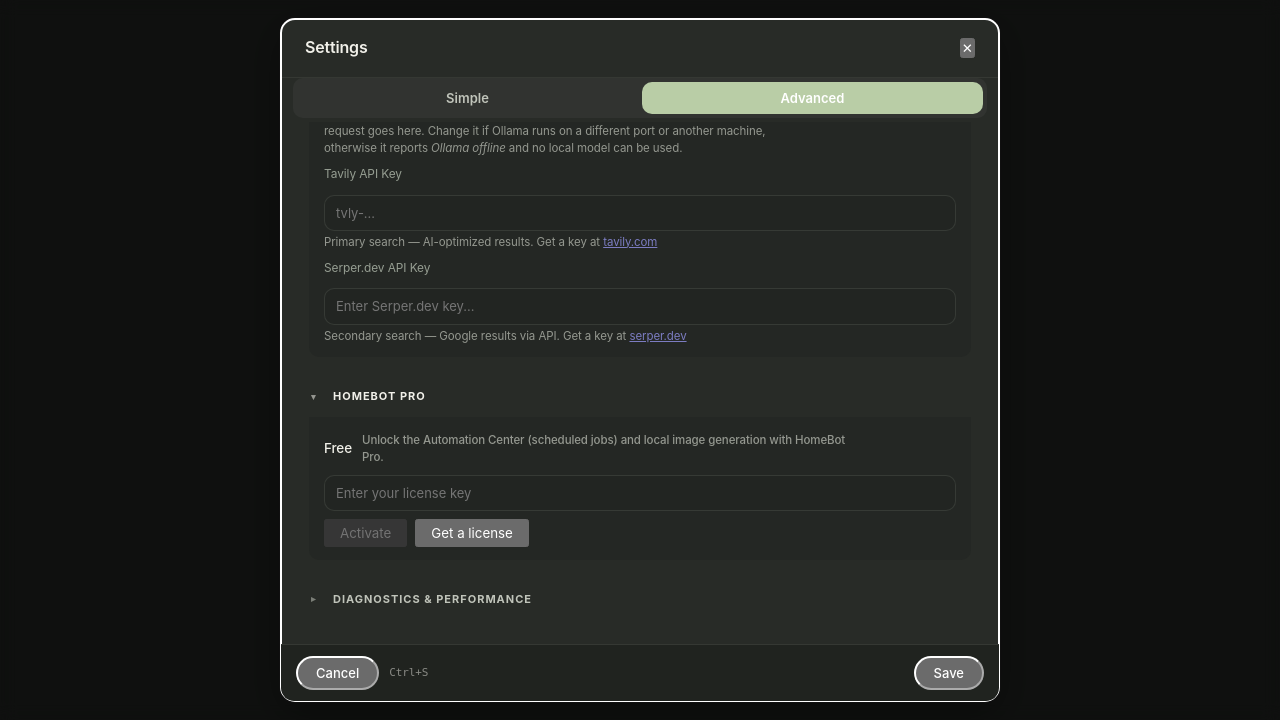
Test: SettingsPanel — System check › runs diagnostics on click and renders each check
The width and height of the screenshot is (1280, 720).
(page scrolled)
Click the button with class "sp-section-toggle" showing "▸ Diagnostics & Performance": (432, 599) [309, 586, 971, 612]
(page scrolled)
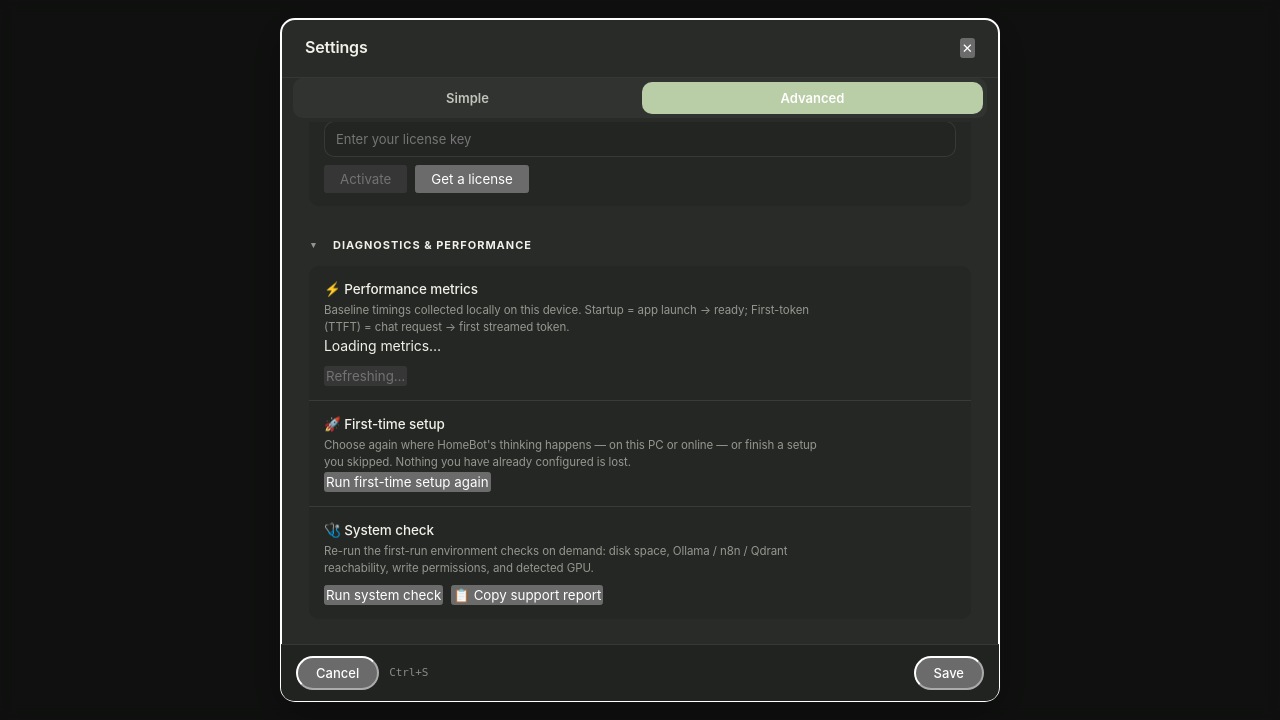
Check: the button "Run system check" is shown
Click the button "Run system check": (384, 595) [324, 585, 443, 605]
(page scrolled)
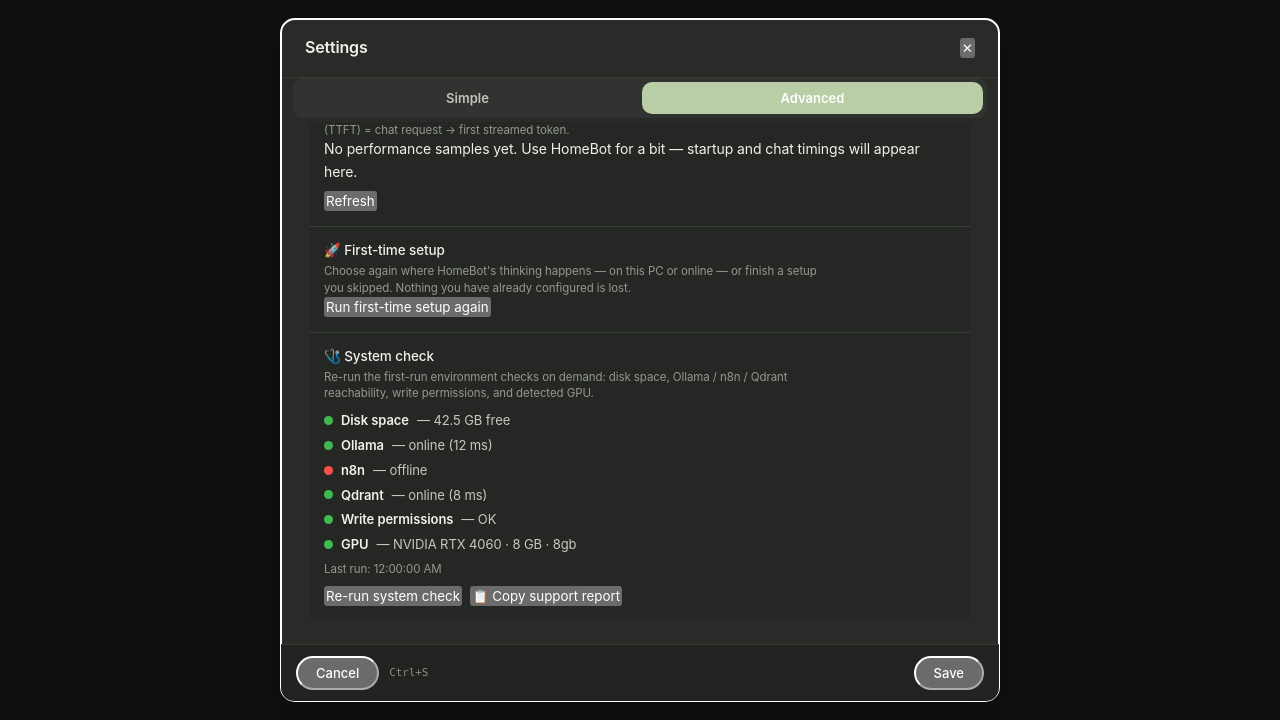
Check: the text "n8n" is shown, box [324, 370, 788, 400]
Check: the text "42.5 GB free" is shown, box [433, 412, 510, 428]
Check: the text "online (12 ms)" is shown, box [408, 437, 492, 453]
